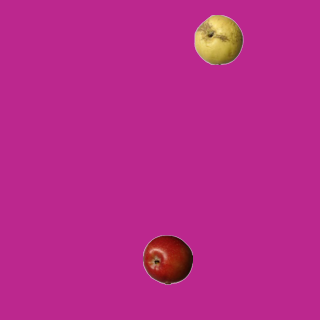Apple Braeburn: (142, 234, 192, 284)
Apple Golden 1: (193, 14, 243, 64)
